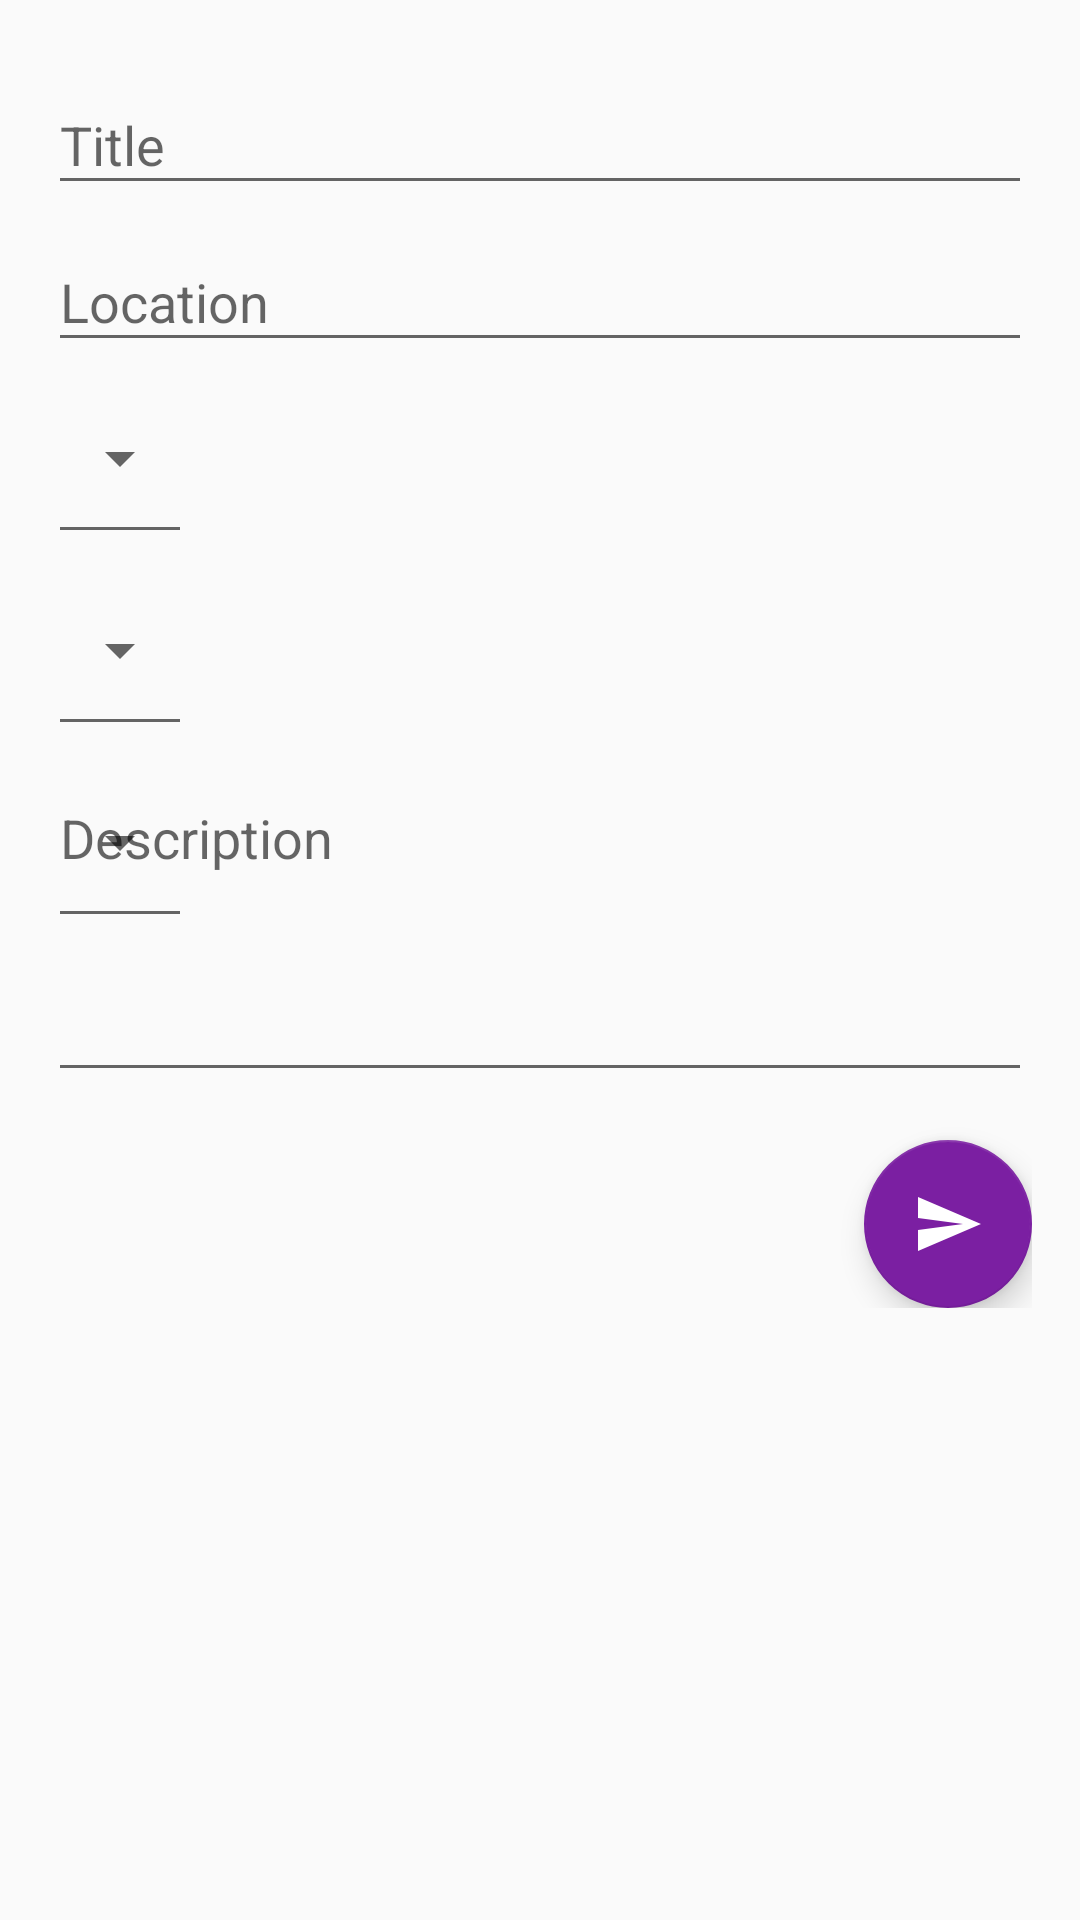

Where icons sit on this 1080w x 1920h app screen, as (left=x1, top=y1, right=x2, bottom=y2):
send: (left=864, top=1140, right=1032, bottom=1308)
